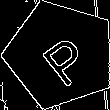P_NW: (29, 24, 92, 86)
